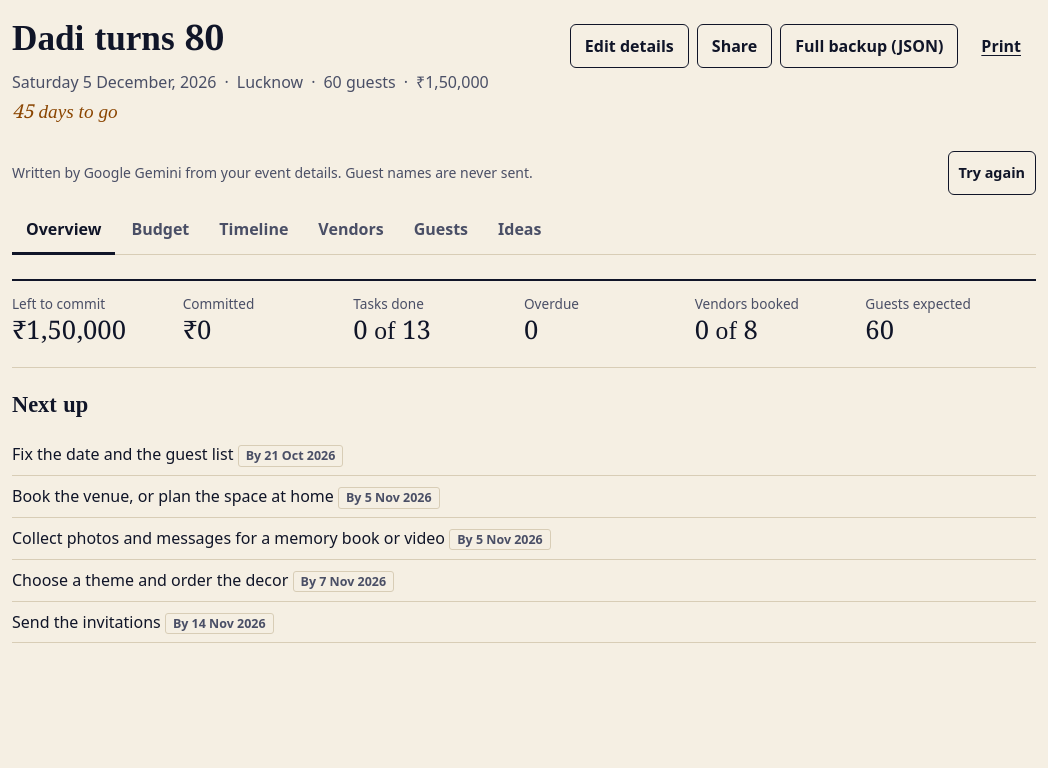
ideas › has an empty saved list and no AI sections without ideas
The image size is (1048, 768).
What coordinates should you click on to do the following:
click the tab "Ideas"
I would click on:
 (520, 231)
Its box is [484,207,556,255].
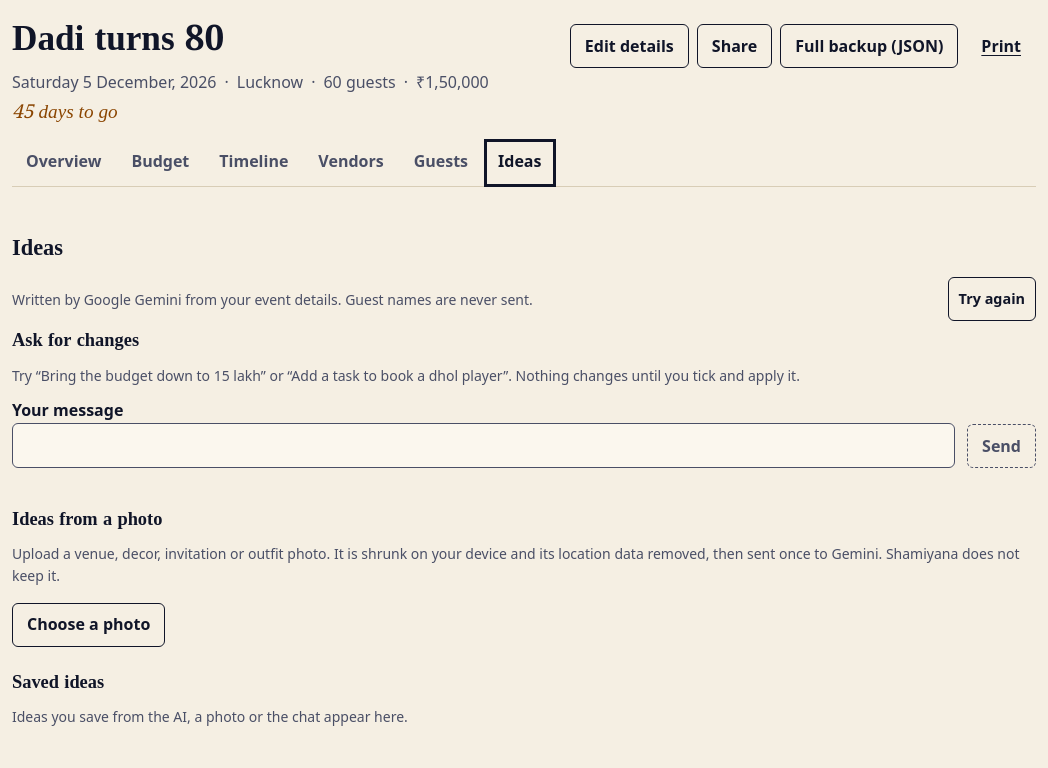
Result: the text "Ideas you save from the AI, a photo or the chat appear here." is shown at [12,707,408,726]
